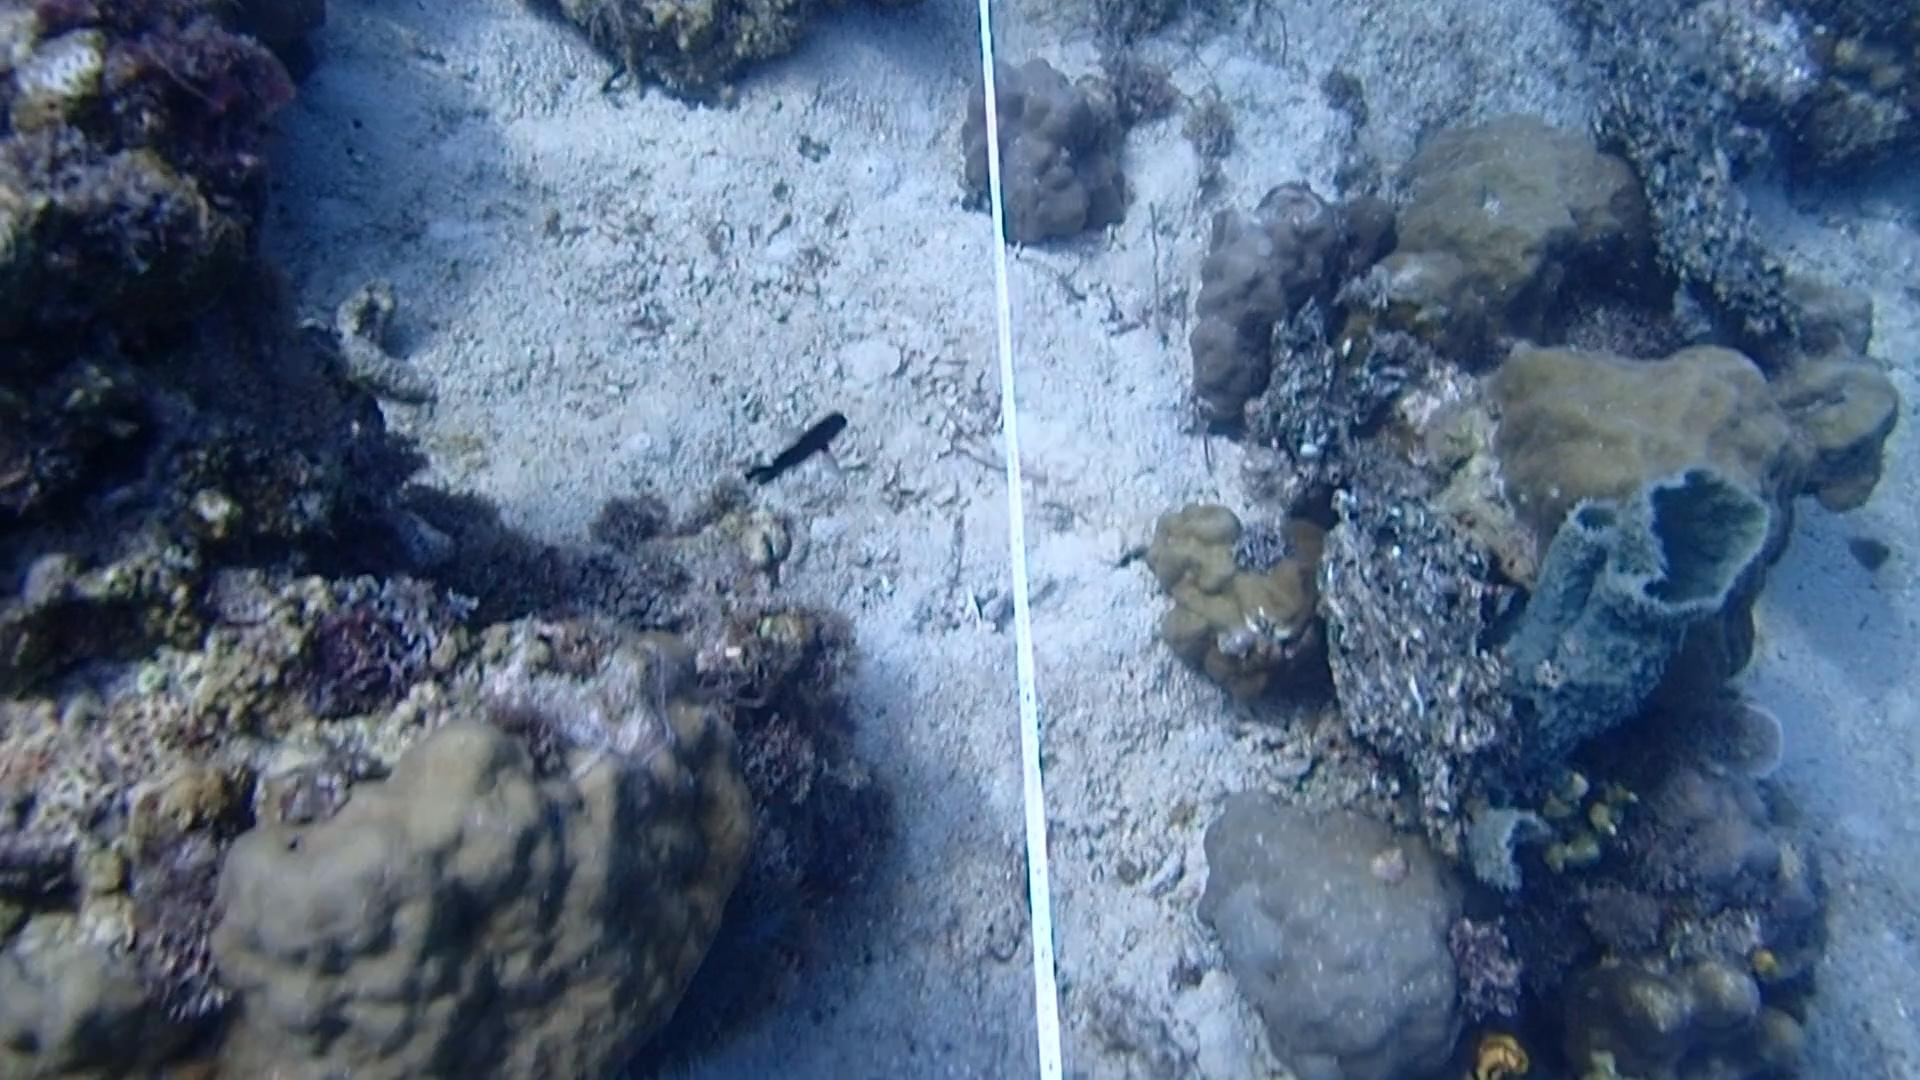Dark Fish: (741, 401, 852, 497)
